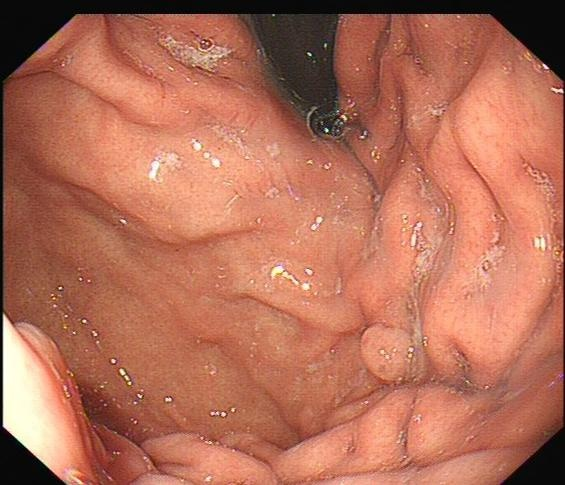Polyp: (358, 321, 420, 387)
